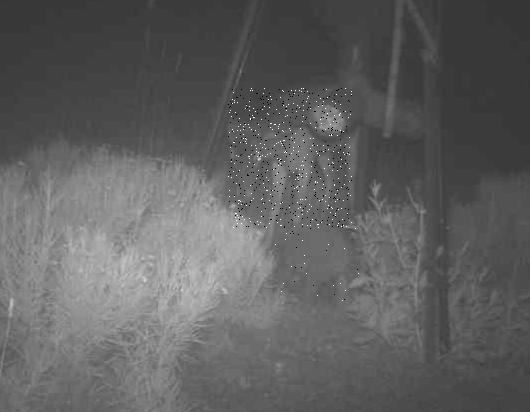Deer: (229, 88, 353, 228)
Raccoon: (274, 216, 359, 309)
